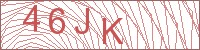4: (21, 4, 43, 33)
6: (48, 7, 67, 34)
J: (74, 7, 91, 35)
K: (101, 17, 125, 45)
